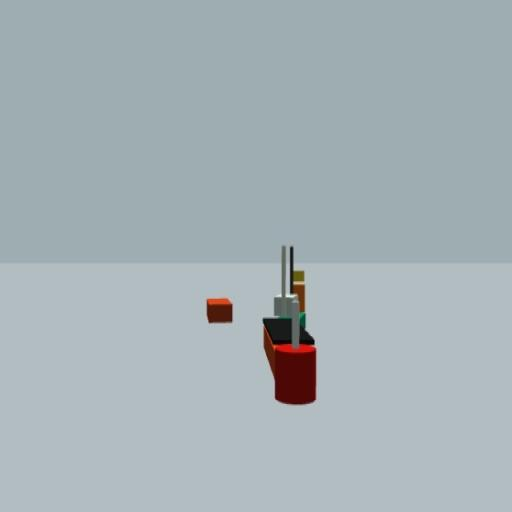debris_container: (205, 297, 233, 323)
floating_obstacle: (274, 297, 318, 405)
